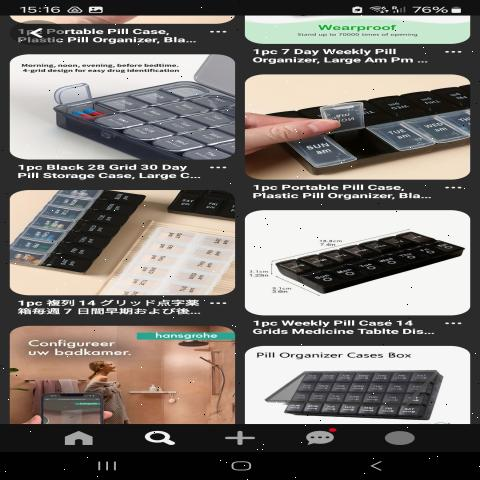PillBox: (264, 84, 478, 178), (275, 218, 466, 309), (278, 360, 452, 424), (13, 191, 142, 276)
